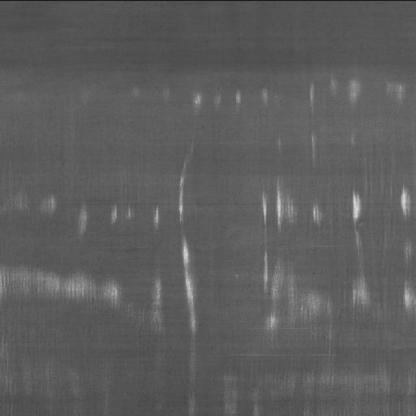waist_folding: (65, 46, 374, 354)
